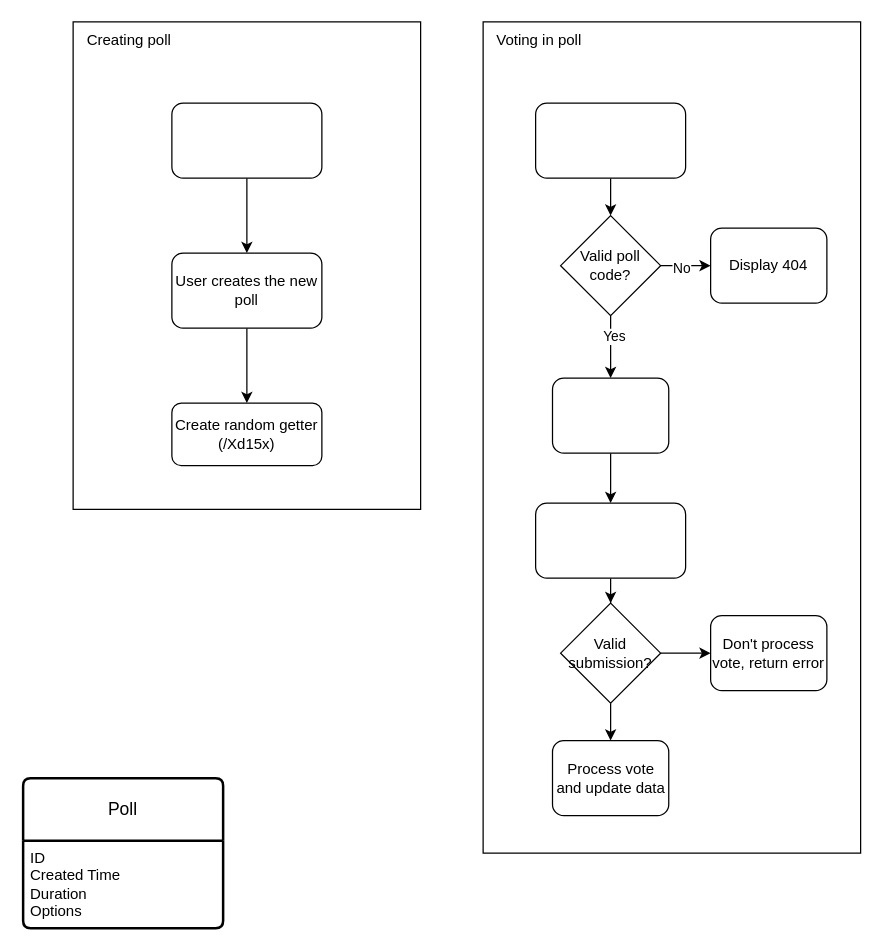
Image size: 883x951. Some labels were removed from this diagram. The centre of each missing label's shape, as x and y in pixels:
Get poll data and display options: the point at 610,415
User adds poll options and title: the point at 246,140
User chooses and submits options: the point at 610,540
User visits link: the point at 610,140
